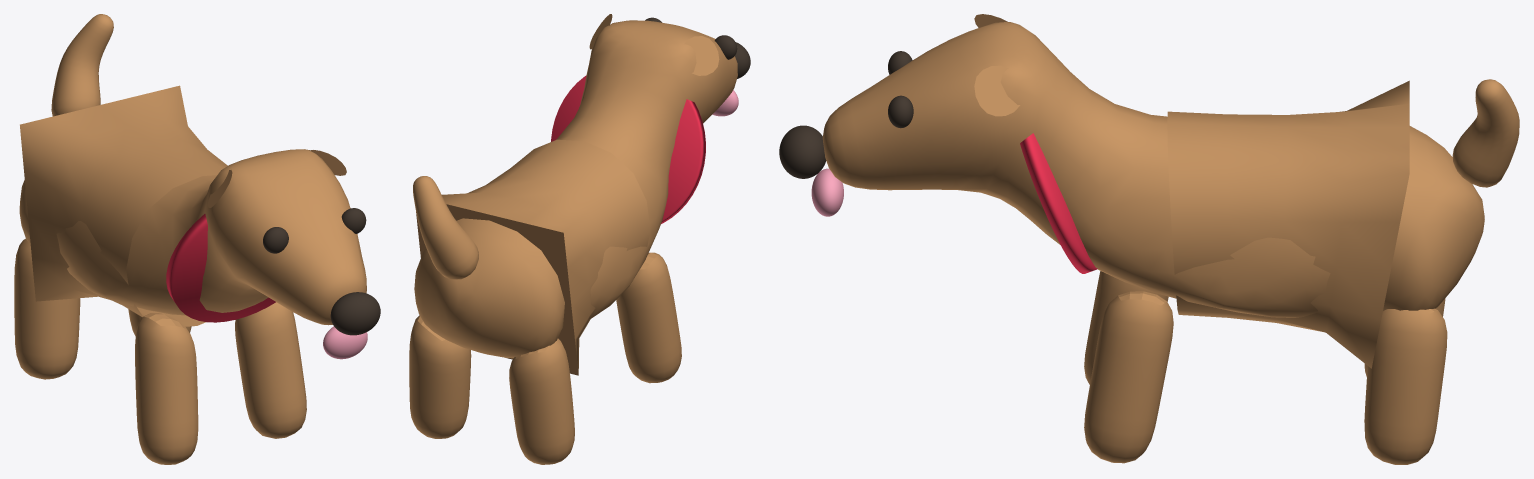
The model's file is dog.glb.
3 views of the same model, side by side, from view 1: azimuth 30°, elevation 25°; view 2: azimuth 150°, elevation 25°; view 3: azimuth 270°, elevation 25° (orthographic). The views are drawn at different scales.
Parts seen in each view (by area): view 1: Dog_Body, Dog_Collar, Dog_Nose, Dog_Tongue, Dog_Eye_L, Dog_Eye_R; view 2: Dog_Body, Dog_Collar, Dog_Nose, Dog_Eye_L, Dog_Tongue; view 3: Dog_Body, Dog_Collar, Dog_Nose, Dog_Tongue.
Boxes of the visible parts, x1,y1,x2,y2 form: Dog_Body: (14,14,366,464); Dog_Collar: (166,214,275,322); Dog_Nose: (330,292,380,335); Dog_Tongue: (323,326,367,359); Dog_Eye_L: (263,227,288,253); Dog_Eye_R: (341,208,366,233); Dog_Body: (409,14,737,464); Dog_Collar: (551,75,705,223); Dog_Nose: (735,42,750,78); Dog_Eye_L: (714,35,737,59); Dog_Tongue: (712,90,738,116); Dog_Body: (822,14,1519,464); Dog_Collar: (1020,133,1097,273); Dog_Nose: (779,125,826,178); Dog_Tongue: (811,168,843,216).
Size of the model in its own units: 0.0563 by 0.1052 by 0.1823.
